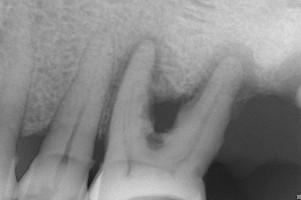Dental Caries: (105, 35, 261, 134)
Furcation Involvement: (272, 49, 301, 105)
